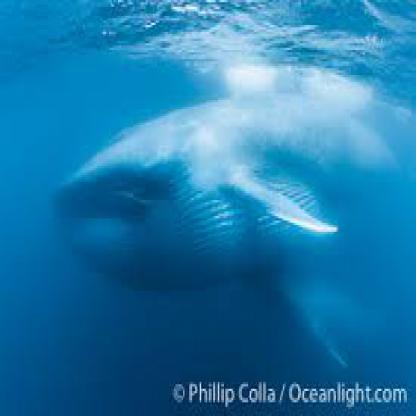blue_whale: (46, 61, 414, 294)
